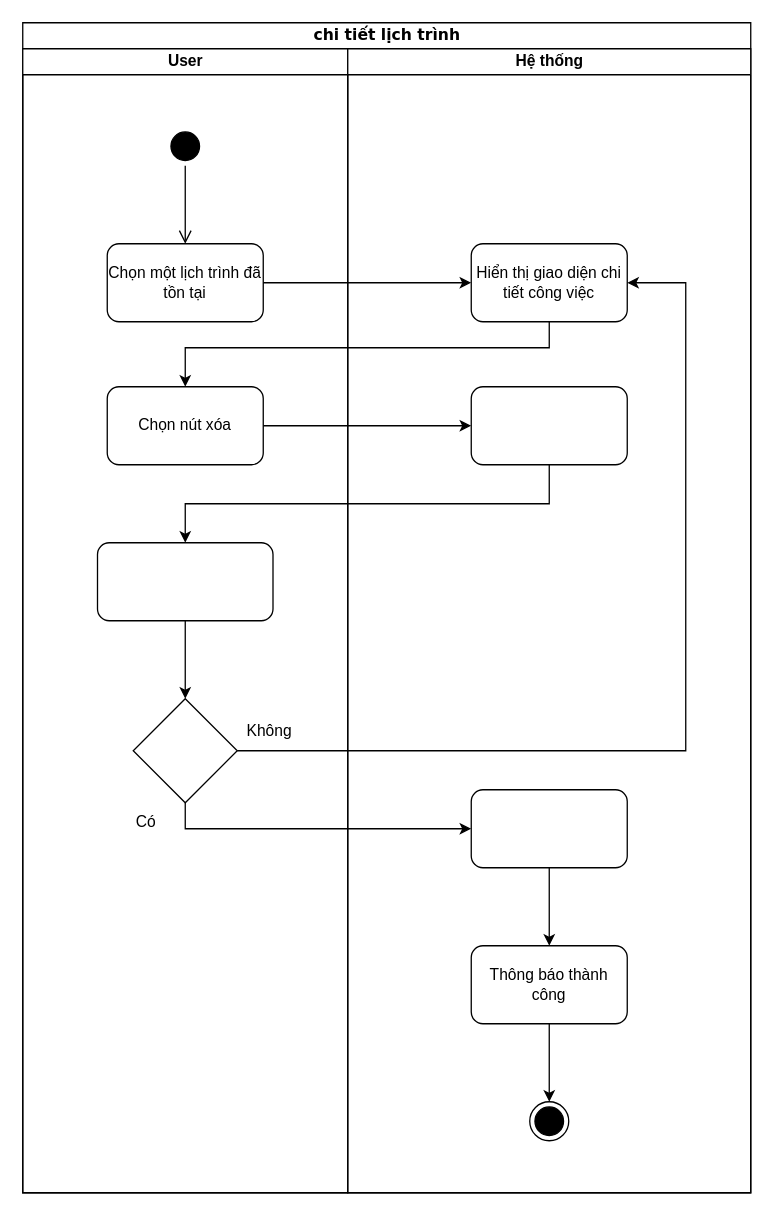
This 774x1216 diagram has some shape labels left out. Here are the shapes that lost their labels. From the top down, the centre of each, then its label:
pixel 548 425: Hiển thị giao diện xác nhận xóa công việc
pixel 184 581: Tương tác với giao diện
pixel 548 828: Xóa dữ liệu
